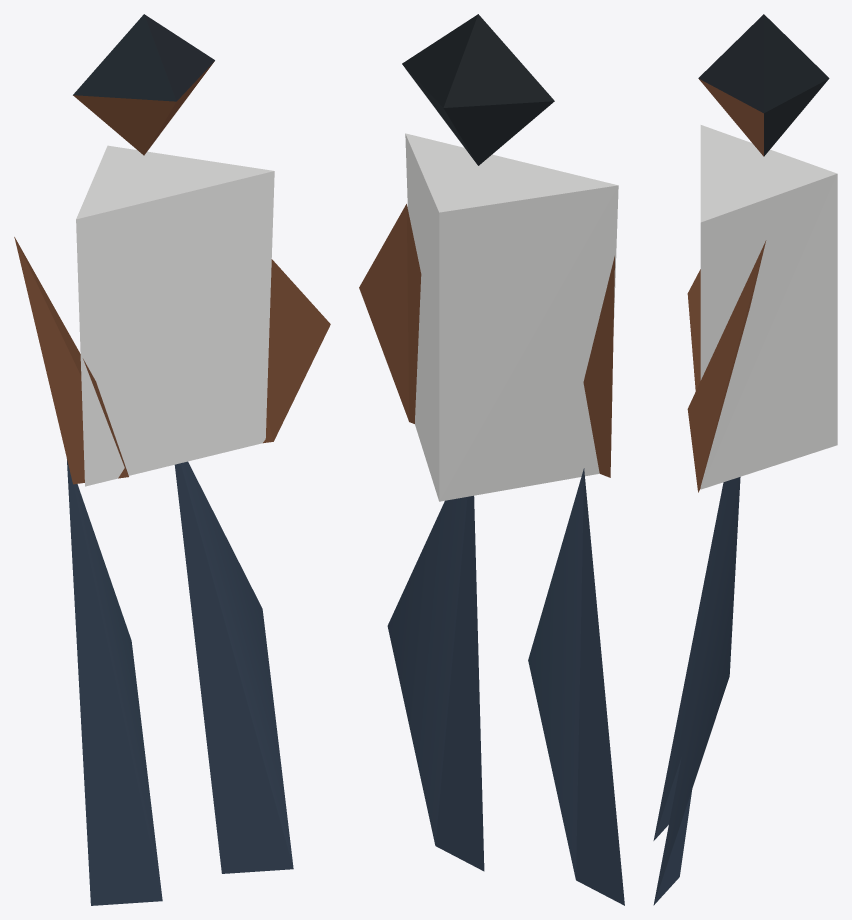
File: fan-07.glb
The picture shows the model from 3 angles, left to right: view 1: azimuth 30°, elevation 25°; view 2: azimuth 150°, elevation 25°; view 3: azimuth 270°, elevation 25°; orthographic projection. The views are drawn at different scales.
Visible parts, largest first — view 1: fan-07; view 2: fan-07; view 3: fan-07.
Part boxes in pixels (x1=…): fan-07: x1=14, y1=14, x2=330, y2=905; fan-07: x1=359, y1=14, x2=624, y2=905; fan-07: x1=653, y1=14, x2=837, y2=905.
Bounding box in the file's own units: 0.615 × 1.77 × 0.35.
